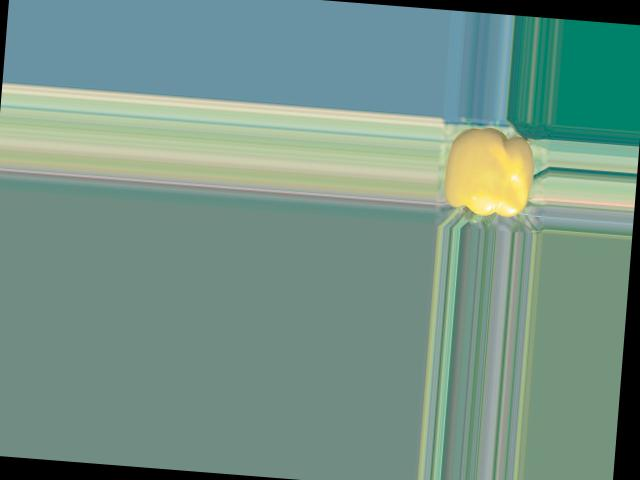bell_pepper: (436, 123, 543, 227)
